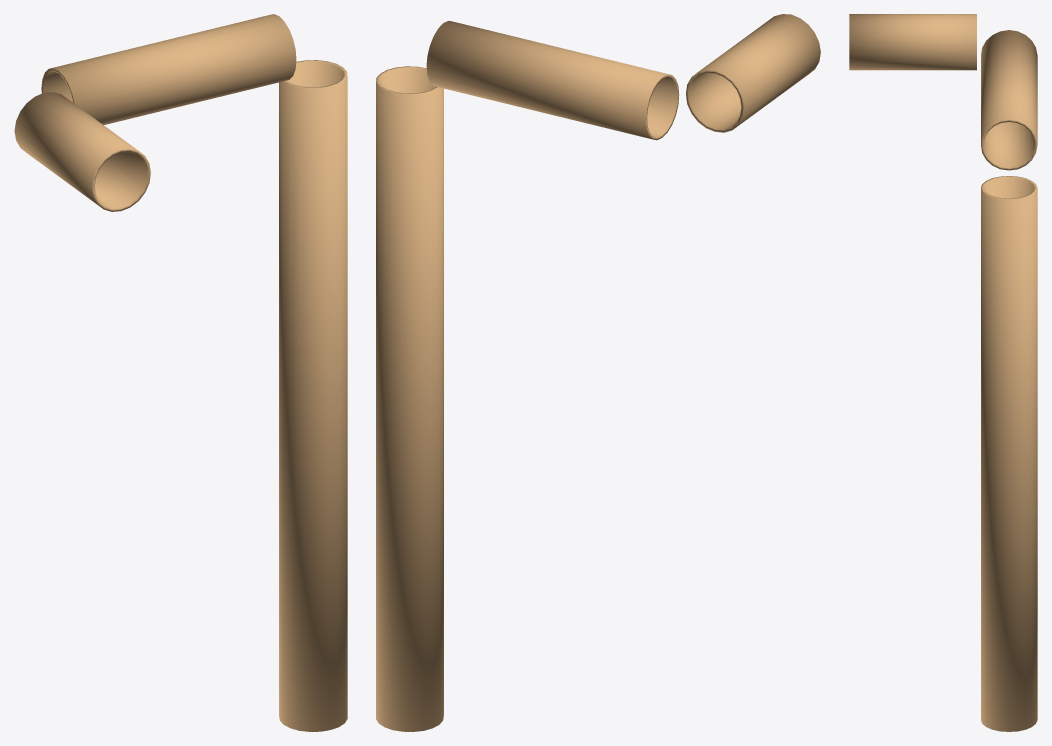
Rendered from slab_pipes_supply__plumbing__fdd3a6d4.glb.
3 renders of one model, left to right at view 1: azimuth 30°, elevation 25°; view 2: azimuth 150°, elevation 25°; view 3: azimuth 270°, elevation 25°, orthographic. The views are drawn at different scales.
Visible parts, largest first — view 1: pipe_supply_manifold_feed__copper.904; view 2: pipe_supply_manifold_feed__copper.904; view 3: pipe_supply_manifold_feed__copper.904.
Part boxes in pixels (x1=…): pipe_supply_manifold_feed__copper.904: x1=14, y1=14, x2=347, y2=731; pipe_supply_manifold_feed__copper.904: x1=376, y1=14, x2=820, y2=731; pipe_supply_manifold_feed__copper.904: x1=849, y1=14, x2=1037, y2=731.
Size of the model in its own units: 0.1302 by 0.2538 by 0.0737.
